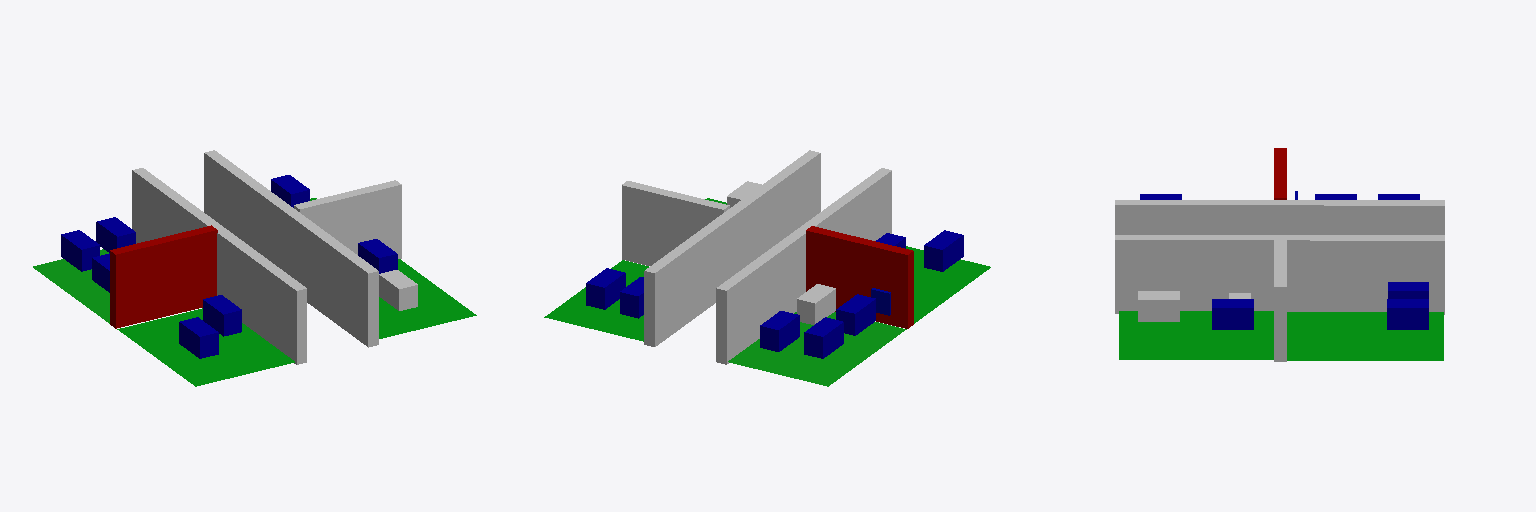
The model's file is basic.obj.
3 renders of one model, left to right at view 1: azimuth 30°, elevation 25°; view 2: azimuth 150°, elevation 25°; view 3: azimuth 270°, elevation 25°, orthographic.
Visible parts, largest first — view 1: wall.004_Cube.004, wall.003_Cube.003, wall.001_wall, floor.001_2.001, wall.002_Cube.002, floor_1, floor.003_4, l02, 203_Cube.008, t02, l01, w01 (+3 smaller); view 2: wall.004_Cube.004, wall.003_Cube.003, wall.001_wall, wall.002_Cube.002, floor.003_4, floor.002_3, floor.001_2.001, l01, l02, w01, t03, k01 (+2 smaller); view 3: wall.004_Cube.004, wall.003_Cube.003, floor.002_3, floor_1, wall.002_Cube.002, 203_Cube.008, t03, t04, l03, wall.001_wall.
Boxes of the visible parts, box(x1,y1,x2,y2) form: wall.004_Cube.004: box(204, 150, 378, 347); wall.003_Cube.003: box(132, 168, 306, 364); wall.001_wall: box(110, 225, 217, 328); floor.001_2.001: box(117, 308, 294, 386); wall.002_Cube.002: box(294, 180, 401, 258); floor_1: box(379, 259, 476, 338); floor.003_4: box(33, 249, 109, 323); l02: box(179, 317, 218, 358); 203_Cube.008: box(379, 270, 417, 310); t02: box(203, 295, 241, 336); l01: box(61, 230, 99, 271); w01: box(96, 217, 135, 252); wall.004_Cube.004: box(644, 150, 820, 346); wall.003_Cube.003: box(716, 168, 891, 364); wall.001_wall: box(806, 226, 913, 328); wall.002_Cube.002: box(622, 181, 729, 265); floor.003_4: box(728, 312, 906, 386); floor.002_3: box(544, 260, 648, 341); floor.001_2.001: box(906, 246, 990, 323); l01: box(804, 317, 843, 358); l02: box(924, 230, 963, 271); w01: box(760, 311, 799, 351); t03: box(586, 268, 625, 309); k01: box(797, 284, 835, 324); wall.004_Cube.004: box(1115, 235, 1444, 314); wall.003_Cube.003: box(1115, 200, 1444, 234); floor.002_3: box(1287, 312, 1443, 360); floor_1: box(1119, 311, 1273, 359); wall.002_Cube.002: box(1274, 238, 1286, 361); 203_Cube.008: box(1138, 291, 1179, 321); t03: box(1387, 299, 1428, 329); t04: box(1212, 299, 1253, 329); l03: box(1388, 282, 1428, 298); wall.001_wall: box(1274, 148, 1286, 199).
Size of the model in its own units: 15.83 by 4.07 by 15.82.